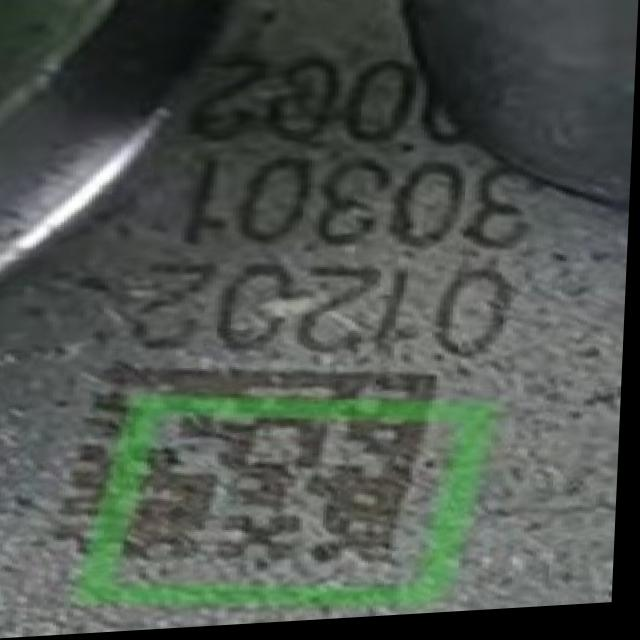dmc: (52, 366, 442, 569)
